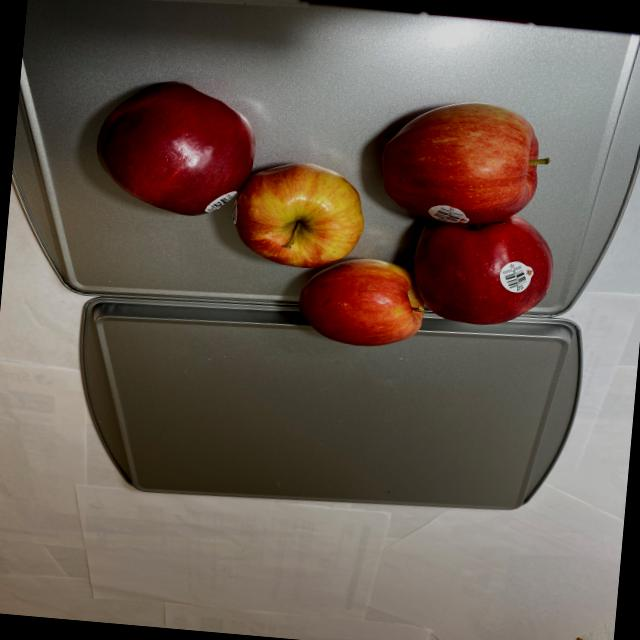apple: (76, 56, 566, 362)
